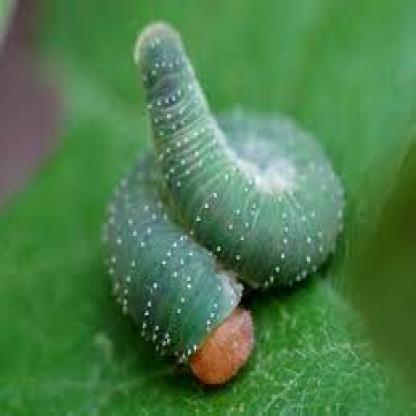sawfly: (102, 21, 350, 390)
